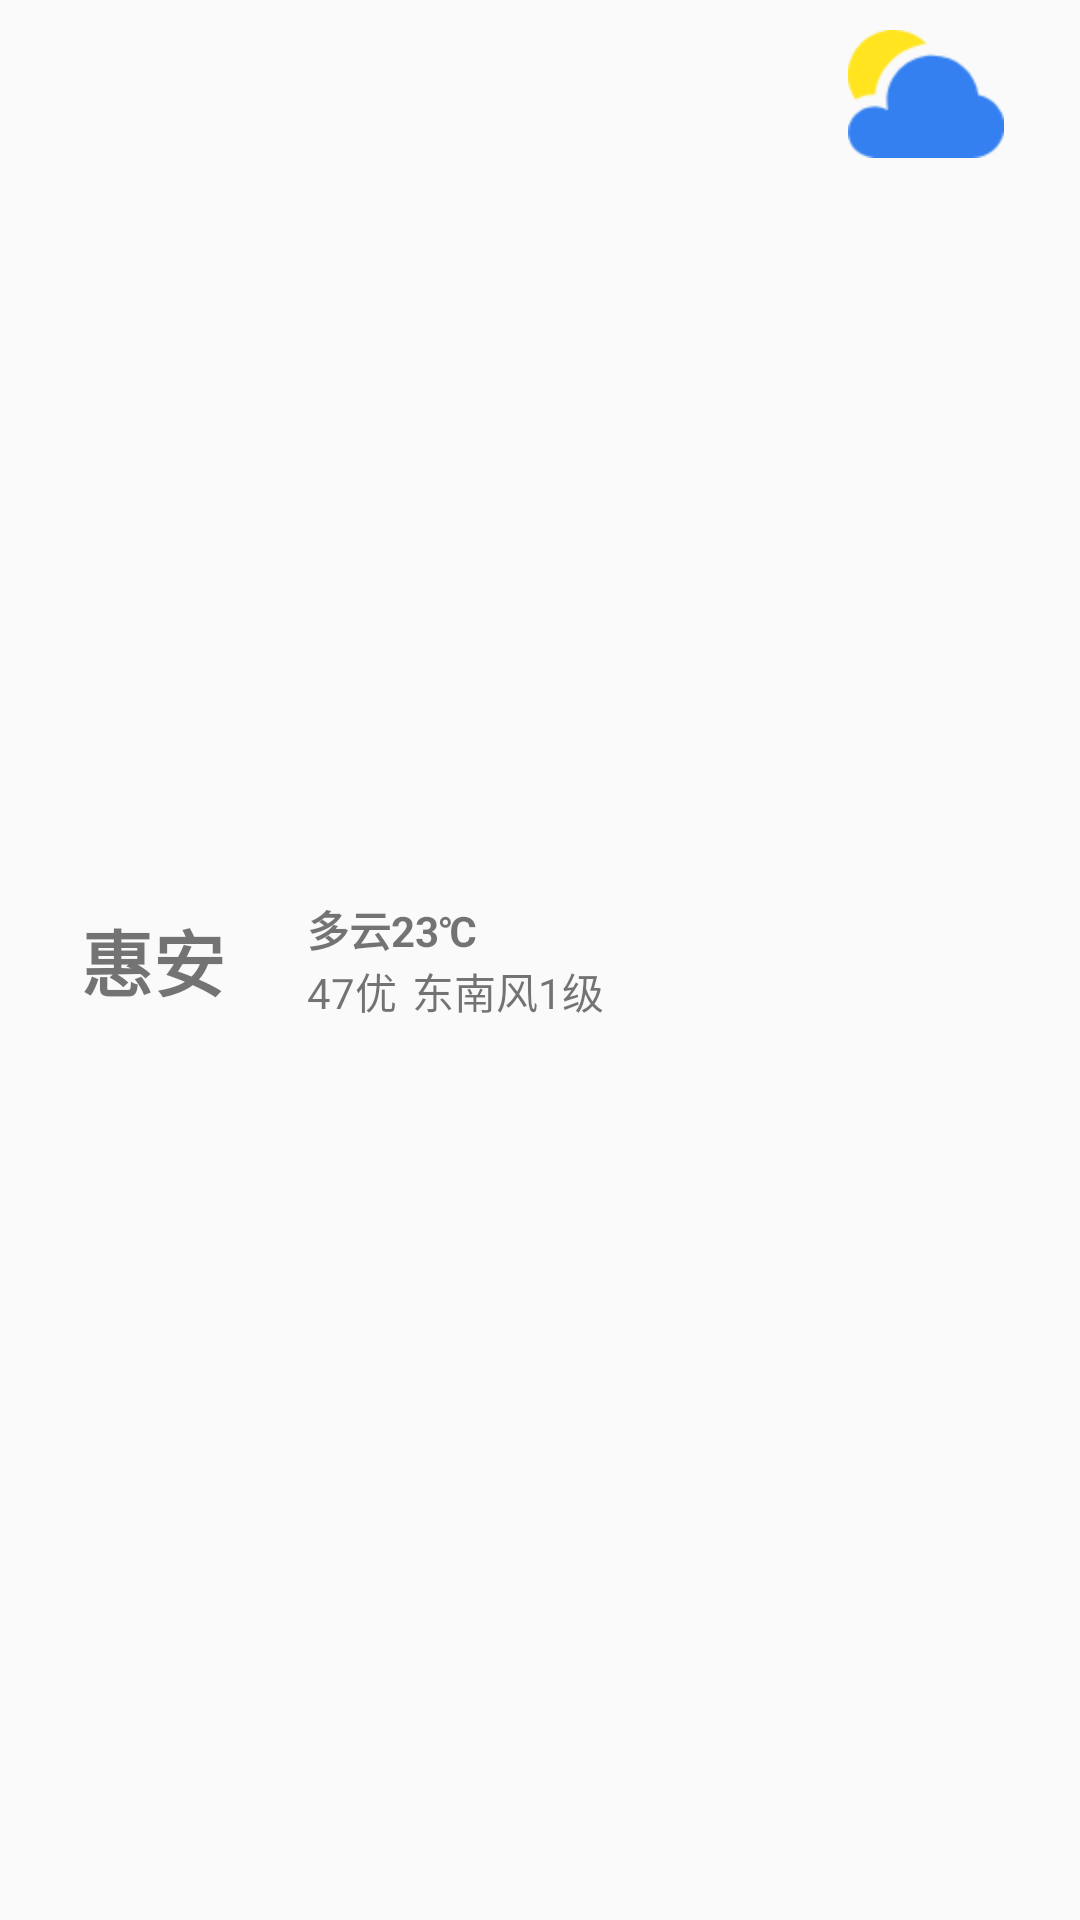

Icon click points for this 1080 x 1920 phone screenshot, format (x=x, y=y):
weather cloudy: (x=926, y=94)
